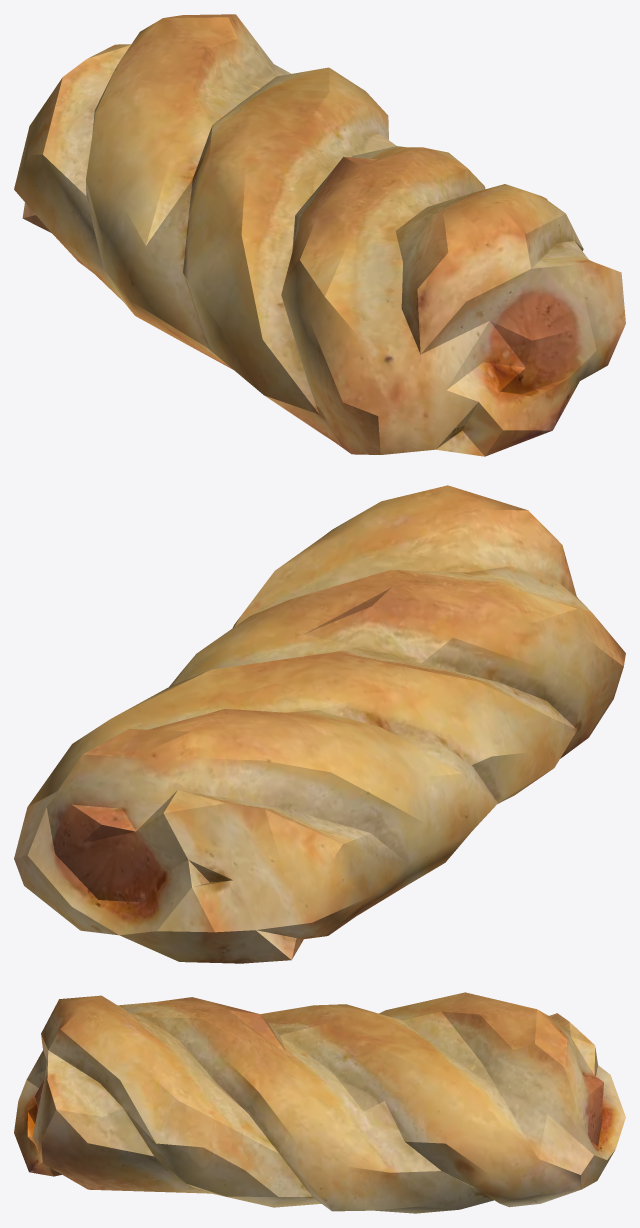
The model's file is 3DPastry002.glb.
The picture shows the model from 3 angles, top to bottom: view 1: azimuth 30°, elevation 25°; view 2: azimuth 150°, elevation 25°; view 3: azimuth 270°, elevation 25°; orthographic projection. The views are drawn at different scales.
Visible parts, largest first — view 1: 3DPastry002; view 2: 3DPastry002; view 3: 3DPastry002.
Boxes of the visible parts, box(x1,y1,x2,y2) form: 3DPastry002: box(14, 14, 625, 456); 3DPastry002: box(14, 485, 625, 963); 3DPastry002: box(14, 992, 625, 1213).
Size of the model in its own units: 0.0858 by 0.0544 by 0.1758.
Materials: 1 (1 with a texture image).
